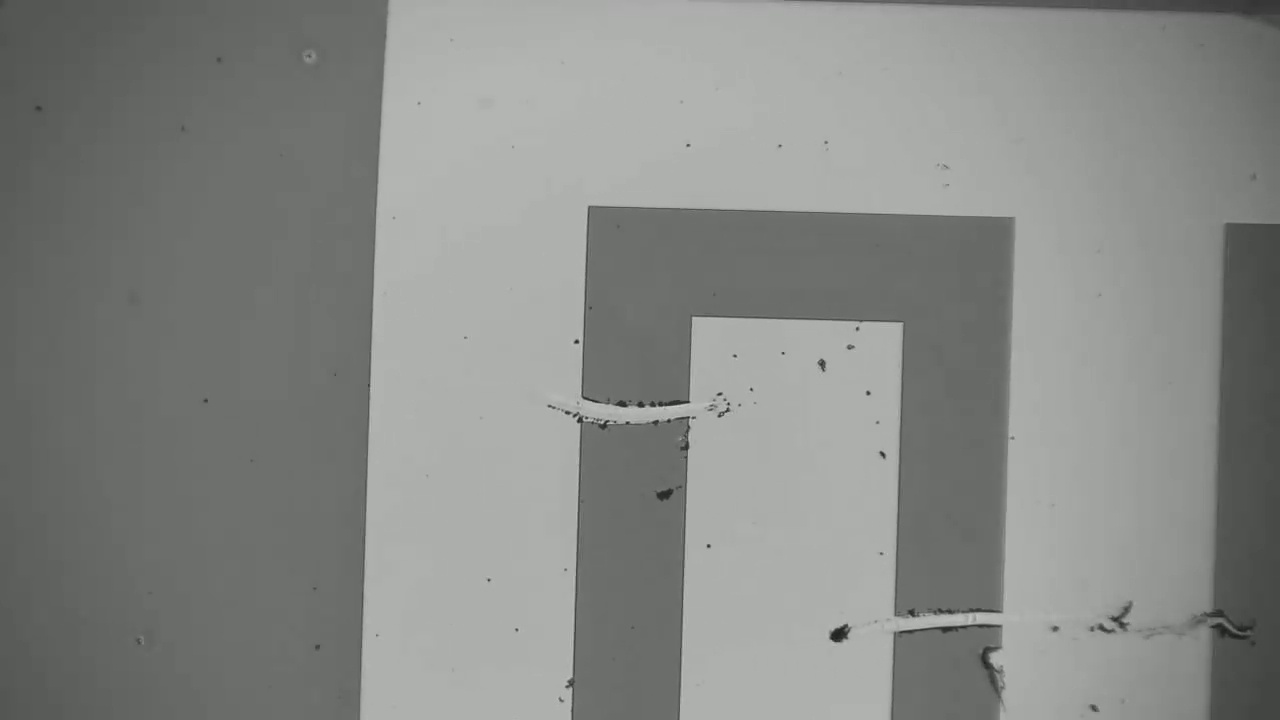Short_circuit: (539, 377, 711, 449), (870, 589, 1022, 653)
